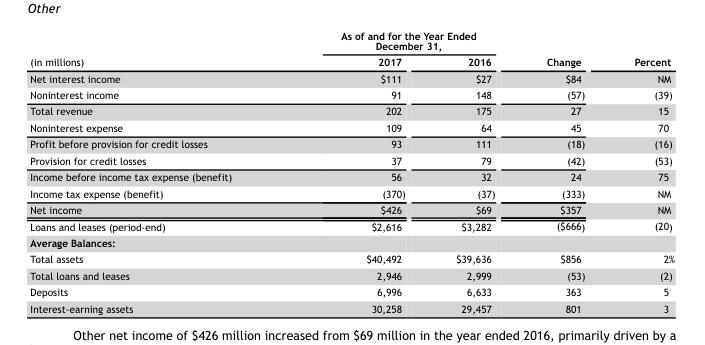table: (29, 29, 674, 313)
table column: (29, 29, 285, 313), (285, 29, 430, 313), (430, 29, 520, 313), (520, 29, 609, 313), (609, 29, 674, 313)
table column header: (29, 29, 674, 69)
table projected row header: (29, 234, 674, 250)
table row: (29, 29, 674, 53), (29, 69, 674, 86), (29, 102, 674, 119), (29, 151, 674, 168), (29, 184, 674, 201), (29, 217, 674, 234), (29, 266, 674, 283), (29, 53, 674, 69), (29, 86, 674, 102), (29, 119, 674, 135), (29, 135, 674, 151), (29, 168, 674, 184), (29, 201, 674, 217), (29, 234, 674, 250), (29, 250, 674, 266), (29, 283, 674, 299), (29, 299, 674, 313)
table spanning cell: (29, 29, 285, 69), (285, 29, 520, 53), (520, 29, 609, 69), (609, 29, 674, 69)
